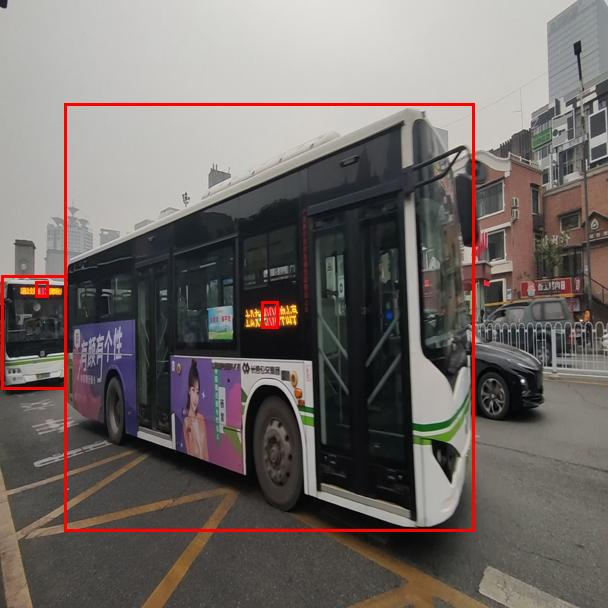bus: (64, 103, 474, 531), (1, 275, 66, 389)
screen: (261, 301, 278, 328), (35, 281, 48, 297)
